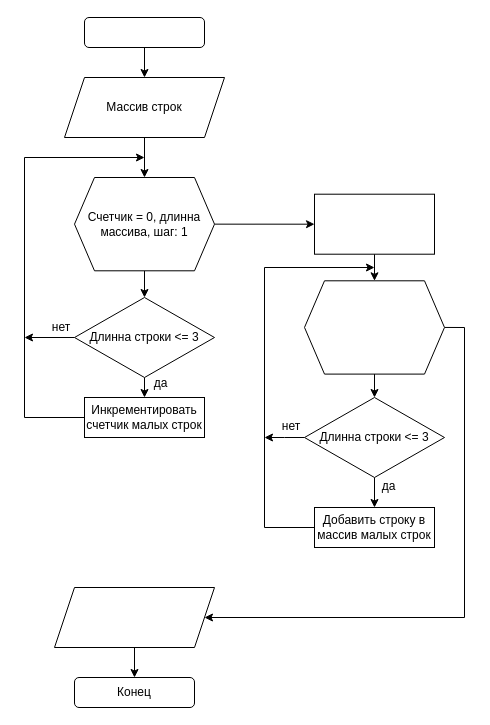
Some shapes in this 490 by 725 pixel diagram are drawn without their labels. The shapes that lost their labels are listed below. From the top down, each one's centre as x and y in pixels, then its label:
At point 144,32: "Начало".
At point 374,223: "Создать массив малых строк расчетной длинны".
At point 374,327: "Счетчик = 0, длинна массива строк, шаг: 1".
At point 134,617: "Массив малых строк".
